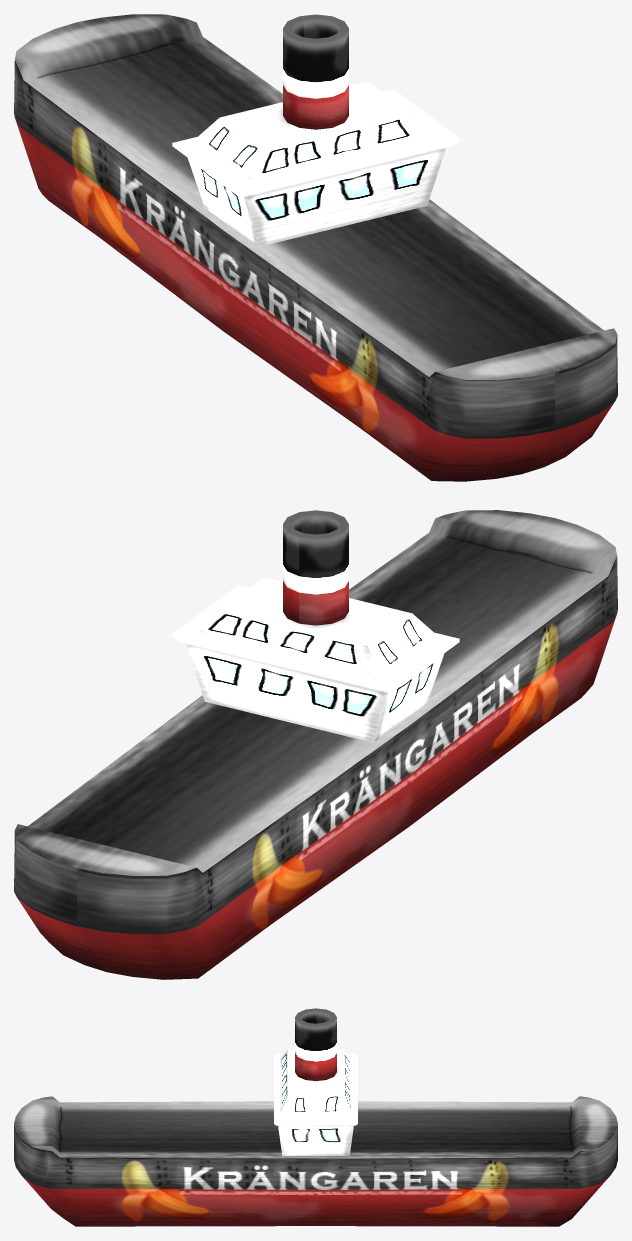
File: ship.fbx
The picture shows the model from 3 angles, top to bottom: view 1: azimuth 30°, elevation 25°; view 2: azimuth 150°, elevation 25°; view 3: azimuth 270°, elevation 25°; orthographic projection. The views are drawn at different scales.
Parts seen in each view (by area): view 1: ship_body, ship_bridge, ship_funnel; view 2: ship_body, ship_bridge, ship_funnel; view 3: ship_body, ship_bridge, ship_funnel.
Part boxes in pixels (bbox=[...]): ship_body: bbox=[14, 14, 617, 481]; ship_bridge: bbox=[172, 81, 459, 246]; ship_funnel: bbox=[283, 14, 348, 129]; ship_body: bbox=[14, 510, 617, 979]; ship_bridge: bbox=[172, 577, 459, 742]; ship_funnel: bbox=[283, 510, 348, 625]; ship_body: bbox=[14, 1096, 617, 1226]; ship_bridge: bbox=[274, 1049, 357, 1155]; ship_funnel: bbox=[295, 1008, 336, 1080].
Bounding box in the file's own units: 183 × 234 × 686.
